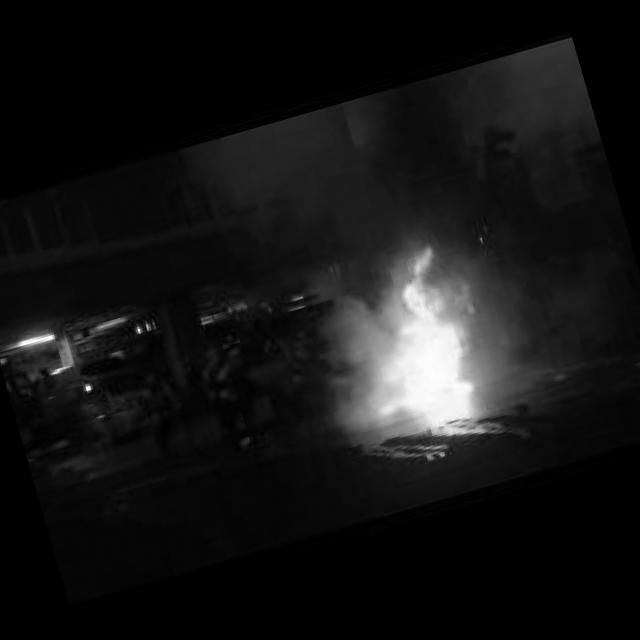fire: (328, 245, 480, 423)
